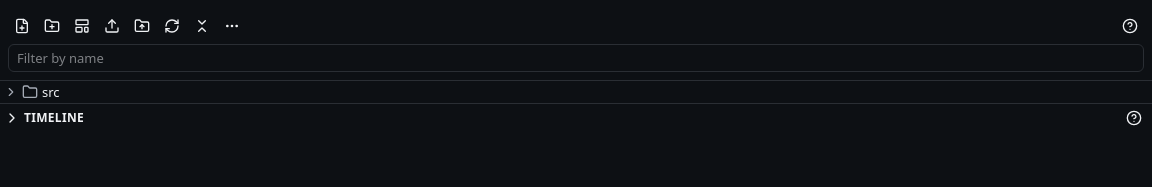
Scenario: the tree follows the disk — S-188, S-189 › shows an entry created in an open folder, without a reload of the page
The image size is (1152, 187).
Click the list item "src". click: [32, 92]
box: [4,83,60,101]
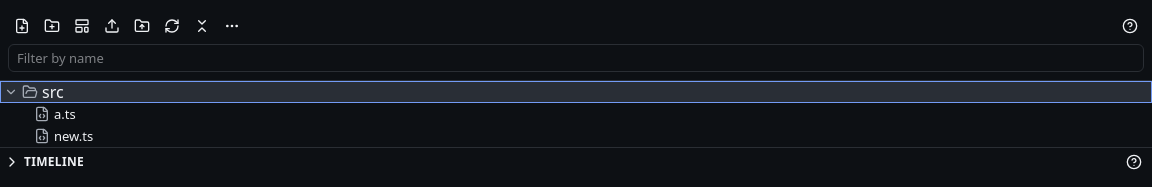
Check: the list item "new.ts" is shown, box [34,127,93,145]
